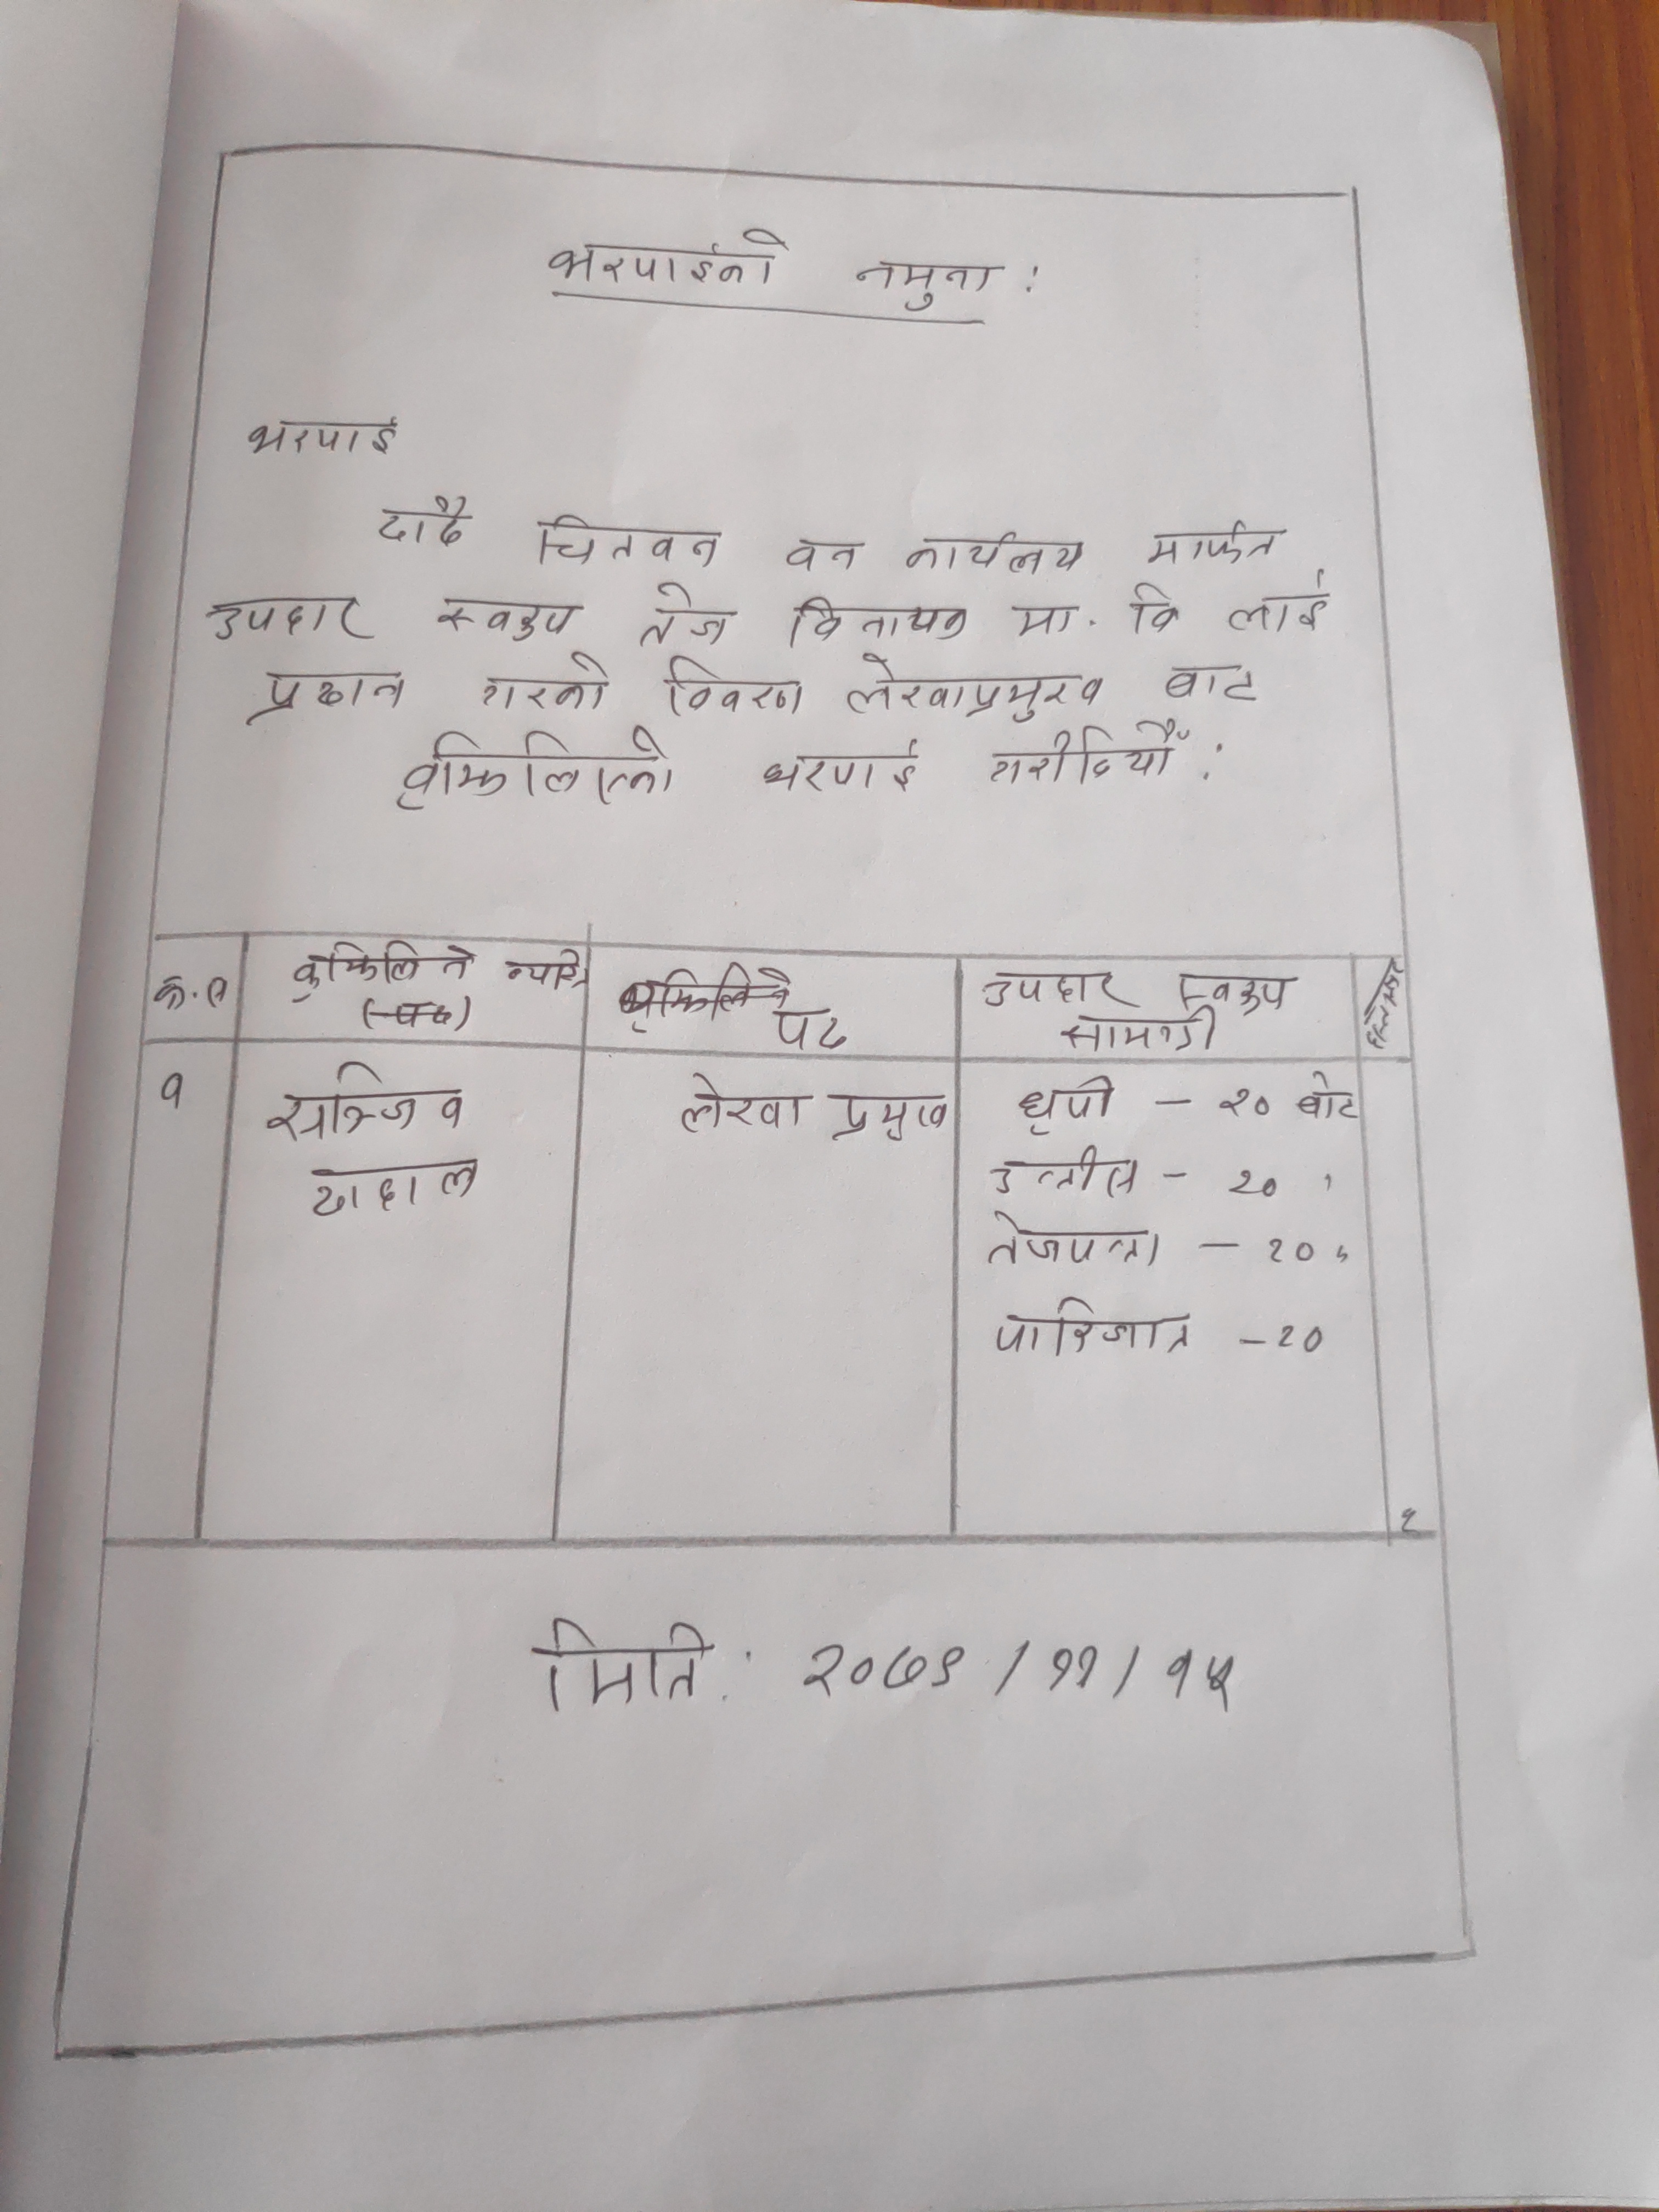text: (800, 1635, 1244, 1719), (399, 725, 676, 810), (833, 653, 1112, 723), (530, 1611, 723, 1710), (256, 1055, 471, 1141), (545, 221, 788, 293), (988, 1285, 1201, 1360), (983, 721, 1190, 786), (295, 1153, 491, 1219), (775, 587, 976, 650), (530, 512, 727, 575), (983, 1204, 1164, 1271), (293, 939, 479, 998), (650, 651, 805, 721), (897, 526, 1093, 578), (673, 1061, 809, 1136), (195, 590, 371, 648), (751, 735, 922, 794), (235, 669, 413, 725), (985, 1148, 1147, 1209), (856, 249, 1011, 312), (1051, 1005, 1220, 1062), (230, 409, 406, 462), (477, 650, 613, 714), (817, 1087, 951, 1151), (429, 583, 579, 639), (629, 580, 746, 650), (1225, 571, 1338, 639), (978, 963, 1126, 1014), (368, 491, 483, 550), (1019, 1073, 1117, 1141), (1143, 523, 1286, 566), (1173, 967, 1305, 1010), (1161, 650, 1265, 702), (1290, 1066, 1363, 1136), (772, 1007, 856, 1059), (500, 942, 587, 991), (150, 970, 232, 1019), (1127, 575, 1183, 634), (782, 536, 868, 573), (1014, 594, 1075, 639)
